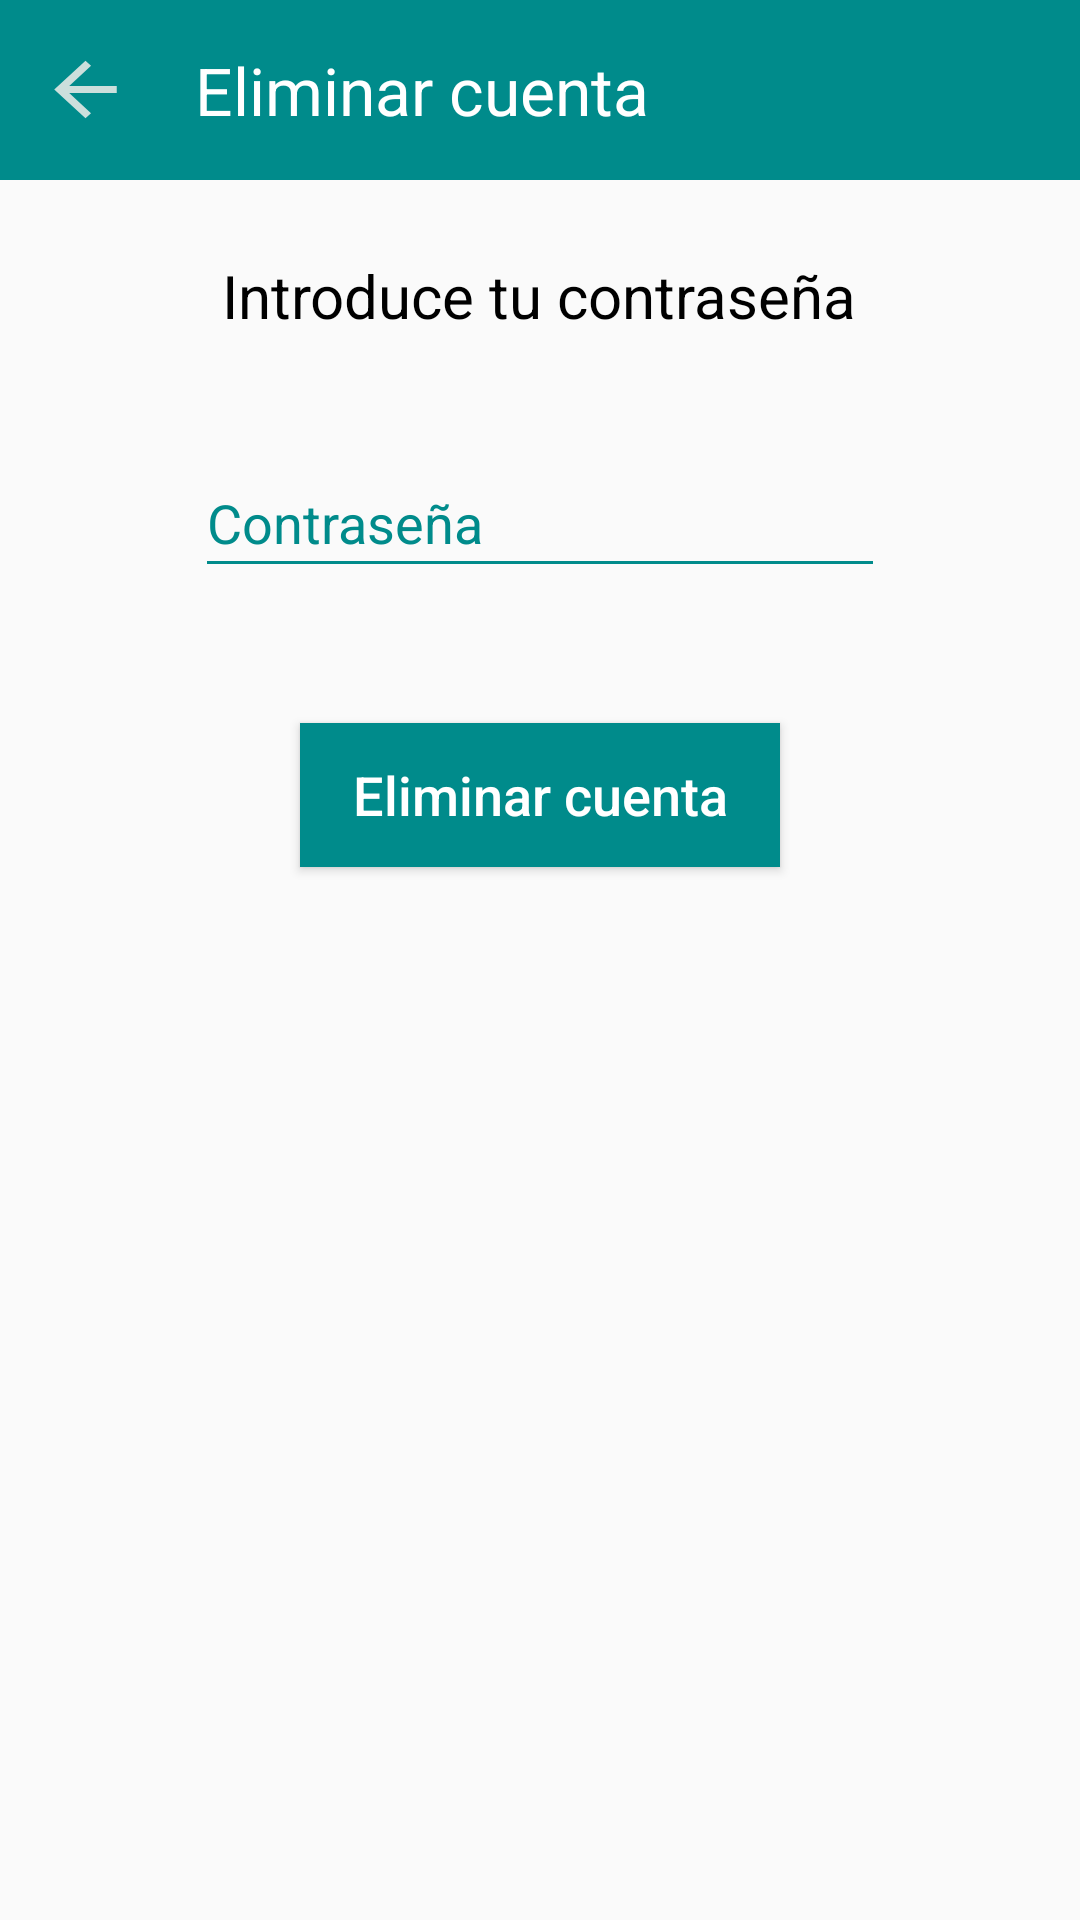

Where icons sit on this 1080×1920 app screen, as (x1, y1, x2, y2):
arrow back: (54, 61, 117, 118)
